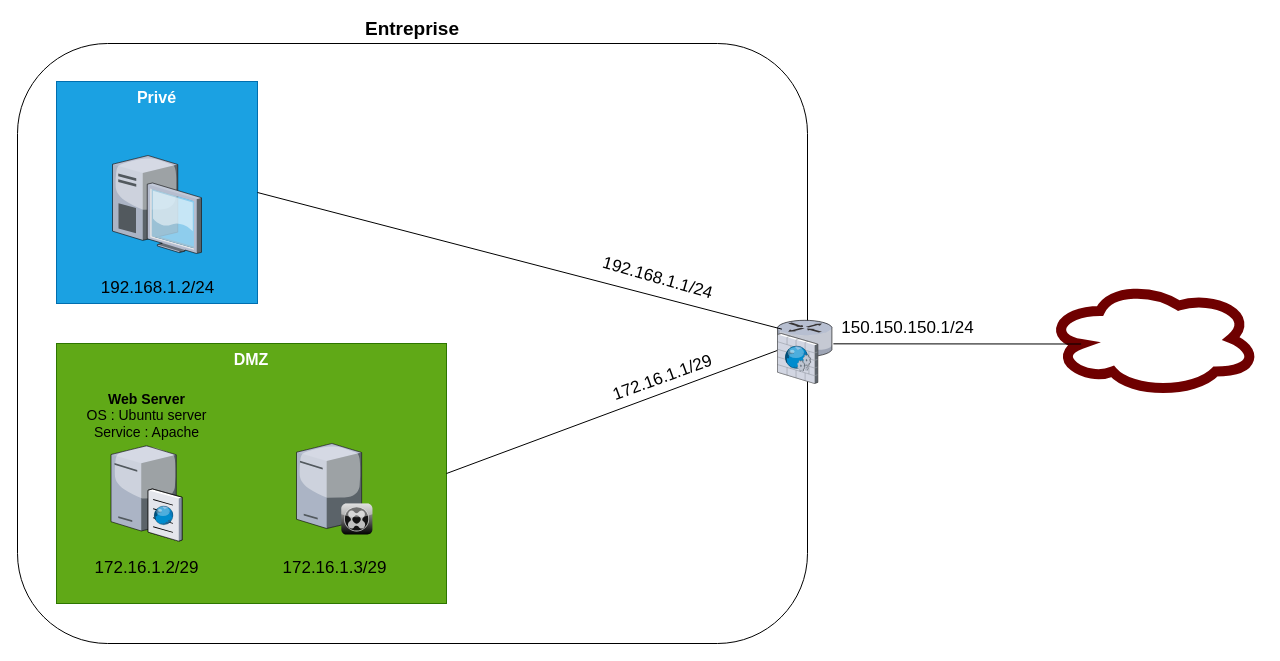
Image size: 1280x661. Some labels were removed from this diagram. The shapes that lost their labels are listed below. From the top down, each one's centre as x and y in pixels, then its label:
the point at 156,204: Client OS : Debian
the point at 797,358: Routeur OS : Ubuntu server Service : Caddy (reverse proxy)
the point at 334,488: DNS OS : Ubuntu server Service : Bind9
